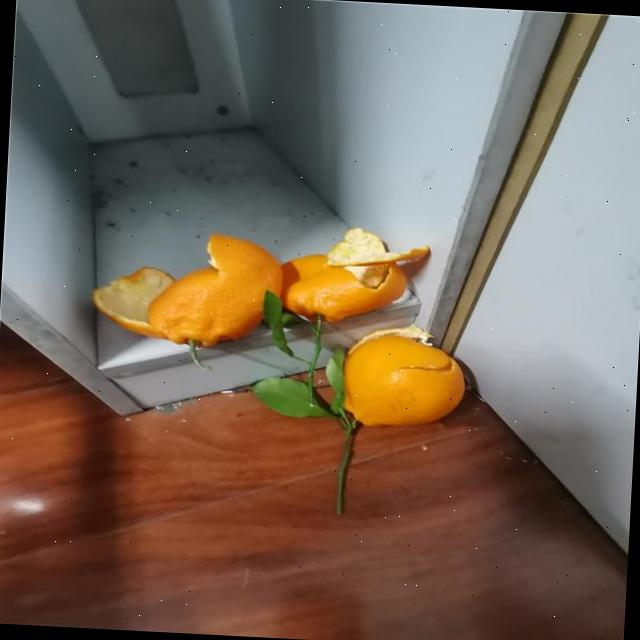orange-peel: (144, 229, 284, 351), (338, 331, 468, 432)
